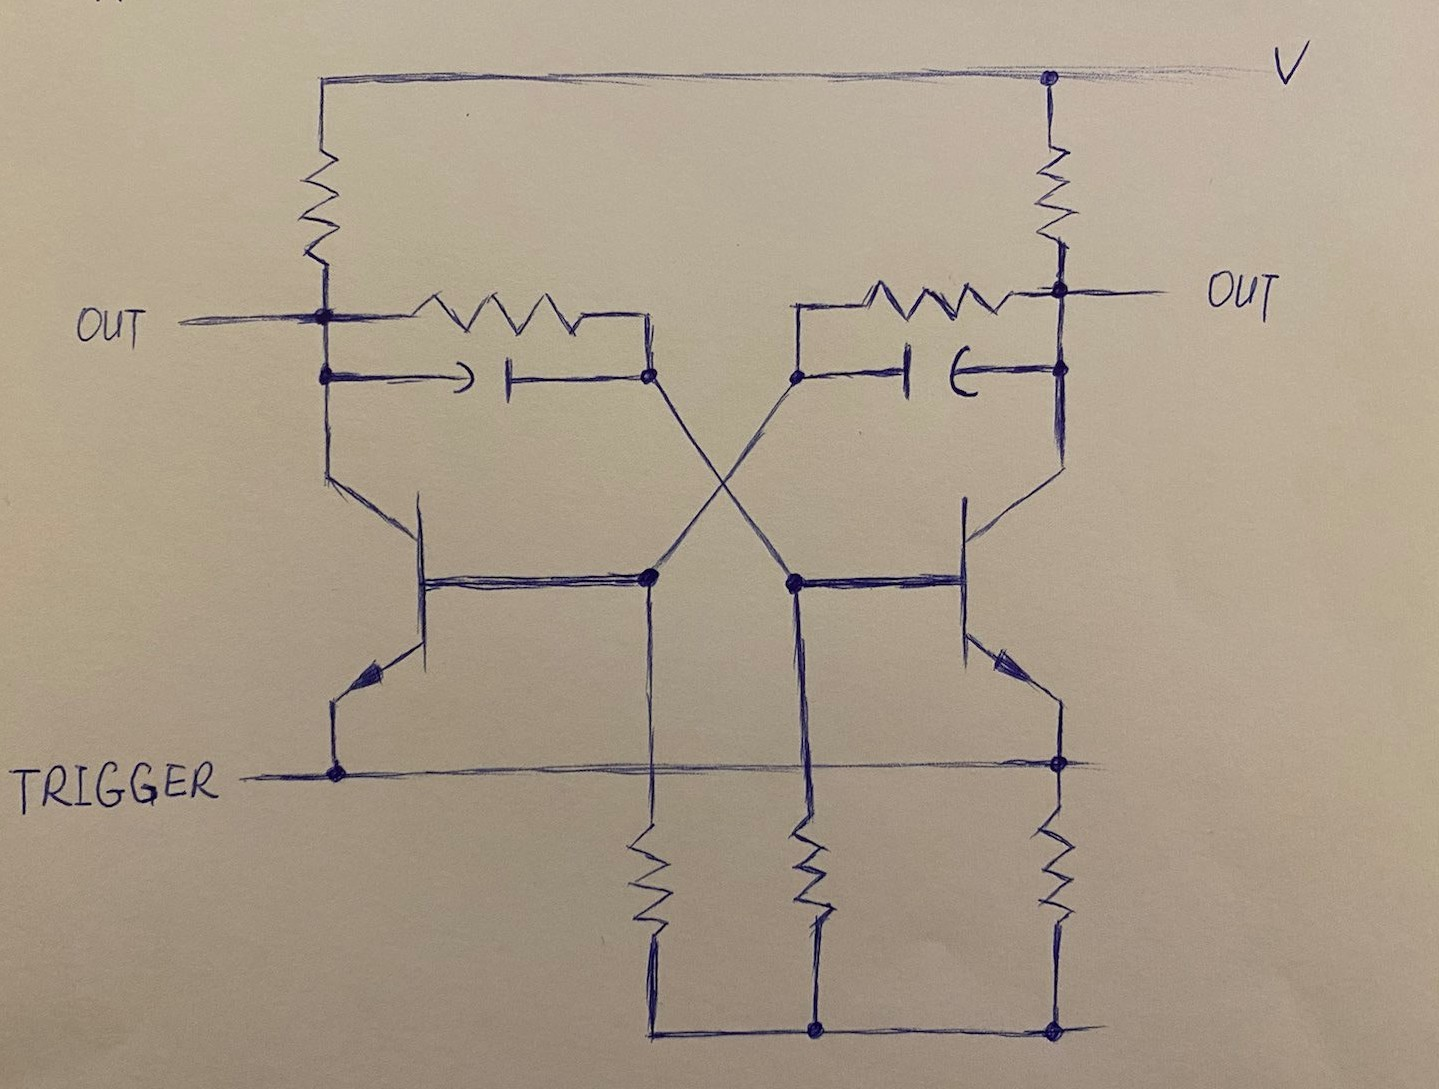capacitor.unpolarized: (889, 337, 992, 404), (444, 351, 526, 406)
crossover: (779, 741, 830, 792), (631, 745, 679, 790), (709, 468, 738, 496)
junction: (762, 555, 822, 612), (615, 551, 674, 609), (1029, 734, 1089, 787), (1029, 348, 1090, 392), (315, 749, 361, 795), (309, 351, 352, 398), (1021, 57, 1073, 95), (776, 357, 824, 397), (793, 1007, 842, 1046), (629, 1012, 671, 1051), (304, 297, 345, 335), (1041, 269, 1078, 311), (1037, 1005, 1066, 1056), (629, 357, 669, 392), (304, 64, 342, 100), (626, 299, 660, 337), (778, 292, 814, 323)
resistor: (396, 284, 591, 343), (778, 806, 843, 943), (1031, 801, 1092, 940), (850, 277, 1019, 323), (623, 818, 679, 951), (296, 145, 347, 272), (1033, 137, 1083, 259)
terminal: (1132, 53, 1261, 92), (1112, 268, 1195, 312), (162, 304, 209, 337), (1079, 1015, 1114, 1046), (233, 765, 267, 793)
text: (3, 752, 222, 826), (67, 296, 152, 357), (1205, 267, 1282, 321), (1269, 31, 1314, 92)
transistor: (941, 459, 1082, 710), (311, 464, 448, 713)
